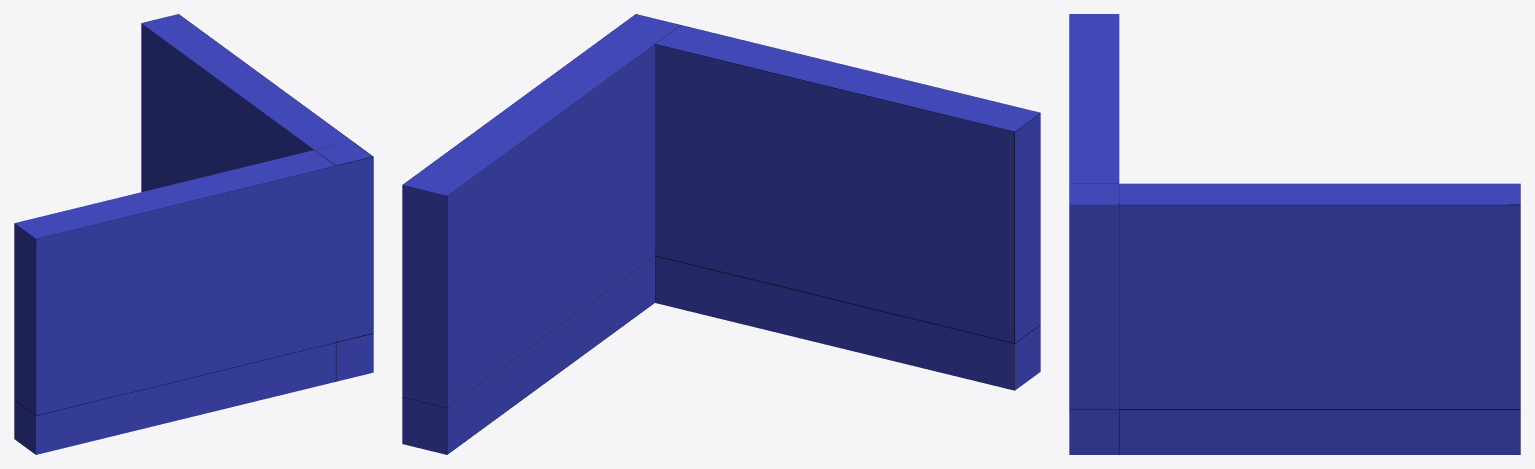
The model's file is corner.obj.
3 renders of one model, left to right at view 1: azimuth 30°, elevation 25°; view 2: azimuth 150°, elevation 25°; view 3: azimuth 270°, elevation 25°, orthographic. The views are drawn at different scales.
Size of the model in its own units: 18 by 11 by 18.
1 material, 1 textured.
